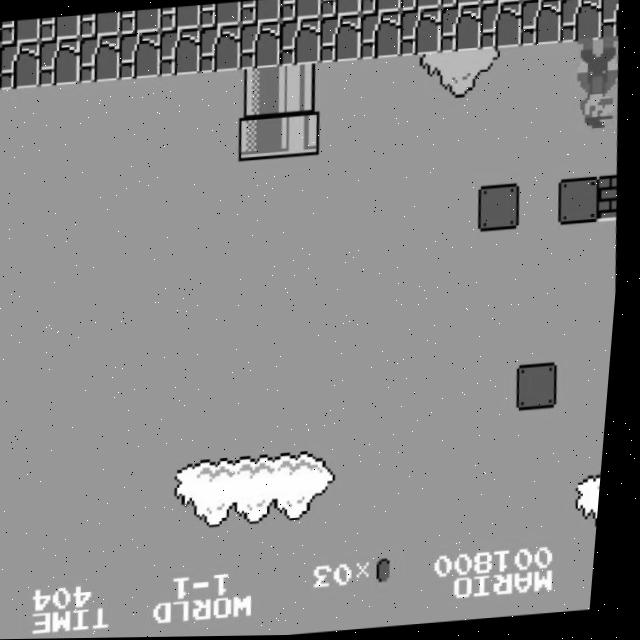0- big_mario: (573, 37, 625, 134)
1- brick_block: (600, 177, 623, 224)
14- pipe: (277, 64, 324, 113), (237, 67, 284, 116)
15- pipe_head: (237, 112, 285, 162), (277, 109, 324, 159)
17- undestructible_block: (477, 1, 525, 51), (36, 37, 84, 87), (156, 28, 204, 77), (357, 11, 404, 61), (317, 14, 364, 64), (237, 21, 284, 71), (197, 24, 244, 74), (77, 34, 124, 84), (437, 5, 484, 54), (397, 8, 444, 57), (277, 18, 324, 67), (116, 31, 163, 80), (518, 0, 565, 48), (0, 40, 43, 90), (557, 0, 604, 44), (158, 5, 203, 32), (37, 15, 82, 42), (118, 8, 162, 35), (198, 2, 242, 28), (78, 12, 122, 38), (238, 0, 282, 25), (0, 18, 42, 44), (277, 0, 322, 22), (598, 0, 621, 42), (318, 0, 362, 18), (358, 0, 402, 15), (398, 0, 442, 11), (438, 0, 482, 9), (478, 0, 522, 5), (0, 44, 2, 91), (518, 0, 562, 2)
3- empty_block: (559, 177, 606, 227), (478, 184, 525, 233), (520, 364, 567, 412)
